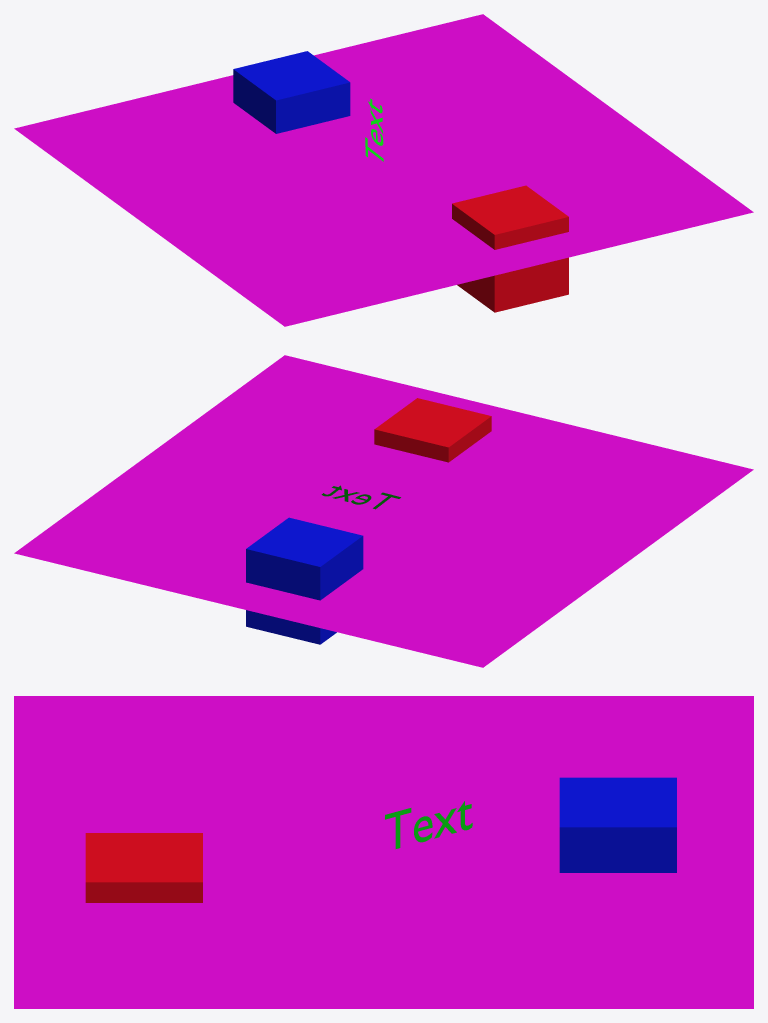
3 views of the same model, one above another, from view 1: azimuth 30°, elevation 25°; view 2: azimuth 150°, elevation 25°; view 3: azimuth 270°, elevation 25° (orthographic). The views are drawn at different scales.
Parts seen in each view (by area): view 1: Plane, Cube, Cube.001; view 2: Plane, Cube.001, Cube; view 3: Plane, Cube.001, Cube, Text.
Part boxes in pixels (x1,y1,x2,y2): Plane: [14, 14, 753, 326]; Cube: [452, 185, 568, 312]; Cube.001: [233, 51, 350, 133]; Plane: [14, 355, 753, 667]; Cube.001: [246, 517, 363, 644]; Cube: [374, 398, 491, 462]; Plane: [14, 696, 753, 1008]; Cube.001: [559, 777, 676, 872]; Cube: [85, 833, 202, 902]; Text: [385, 801, 472, 848].
Bounding box in the file's own units: 12.63 × 2.76 × 12.63.
